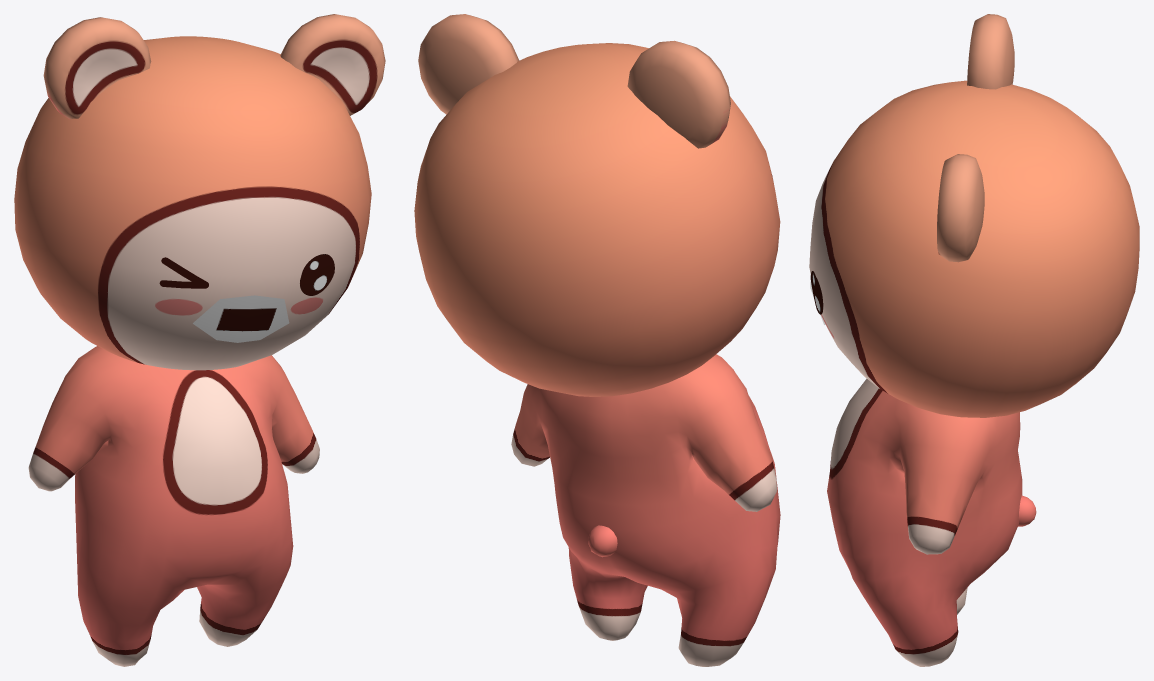
3 views of the same model, side by side, from view 1: azimuth 30°, elevation 25°; view 2: azimuth 150°, elevation 25°; view 3: azimuth 270°, elevation 25° (orthographic). The views are drawn at different scales.
Visible parts, largest first — view 1: DollBody; view 2: DollBody; view 3: DollBody.
Boxes of the visible parts, <box> form: DollBody: <box>14,14,385,666</box>; DollBody: <box>414,14,780,666</box>; DollBody: <box>809,14,1139,666</box>.
Size of the model in its own units: 113 by 195 by 97.26.
Materials: 4 (4 with a texture image).
